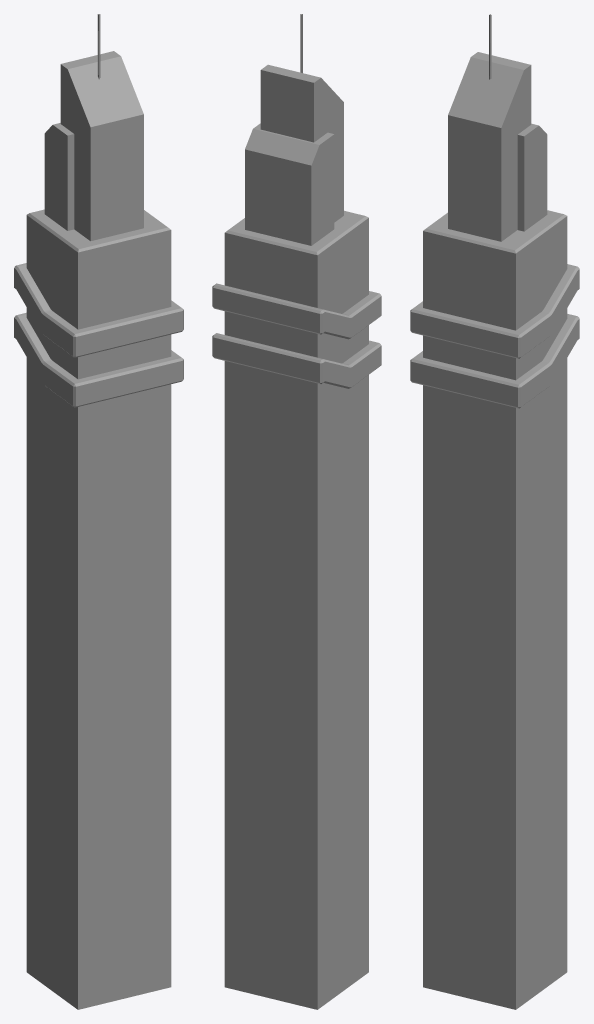
File: building02.FBX
The picture shows the model from 3 angles, left to right: view 1: azimuth 30°, elevation 25°; view 2: azimuth 150°, elevation 25°; view 3: azimuth 330°, elevation 25°; orthographic projection.
Visible parts, largest first — view 1: Box002; view 2: Box002; view 3: Box002.
Boxes of the visible parts, x1,y1,x2,y2 form: Box002: [14, 14, 183, 1009]; Box002: [212, 14, 381, 1009]; Box002: [410, 14, 579, 1009].
Size of the model in its own units: 57.56 by 480 by 54.95.
